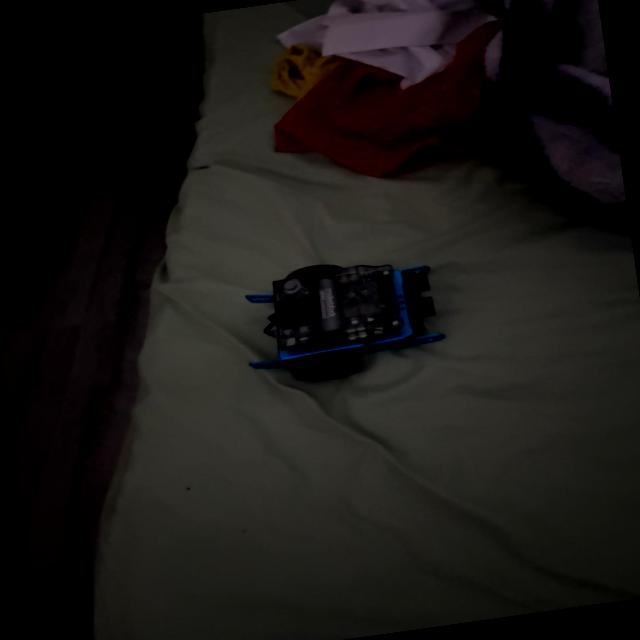mbot-detection: (231, 244, 458, 390)
